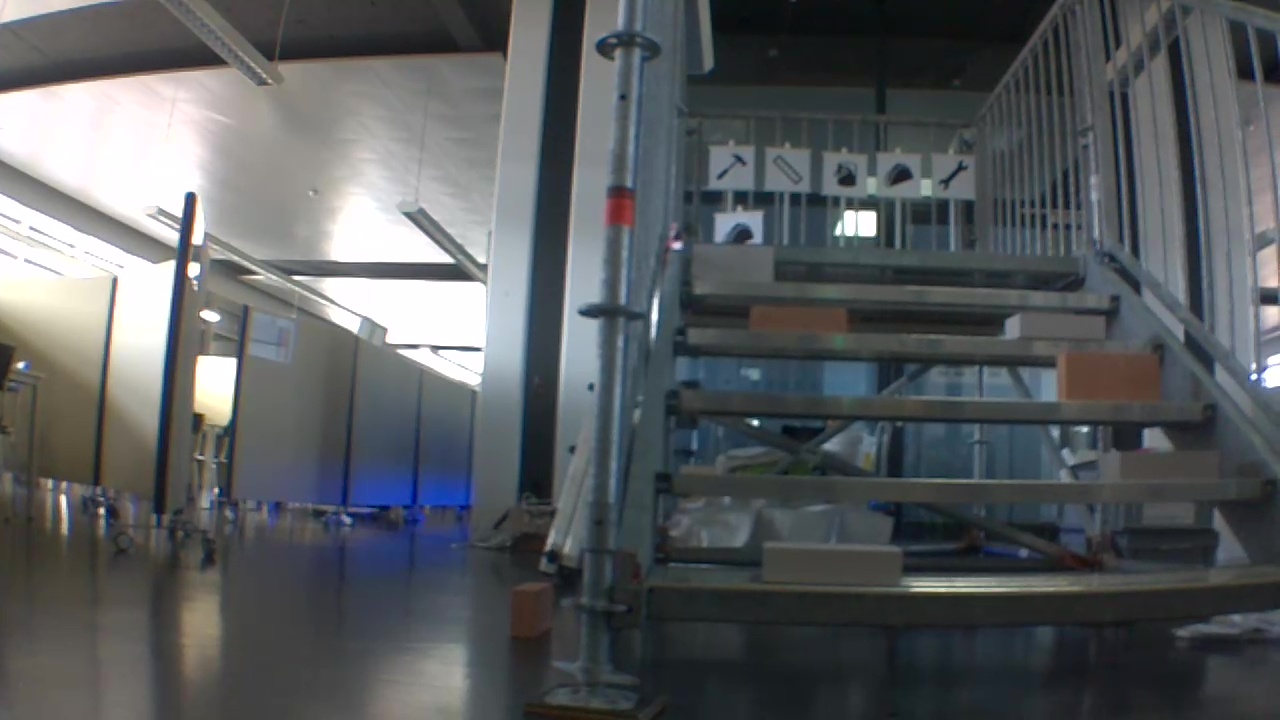brick: (758, 541, 909, 583), (1062, 353, 1160, 403), (1096, 446, 1226, 478), (686, 245, 777, 283), (1000, 312, 1104, 339), (747, 307, 845, 334)
bucket: (831, 160, 861, 189)
edge: (637, 574, 1280, 632), (679, 320, 1167, 352), (656, 475, 1268, 496), (674, 395, 1228, 417), (681, 283, 1123, 301), (682, 251, 1080, 266)
hammer: (713, 149, 749, 183)
ruler: (771, 156, 804, 180)
stairs: (572, 0, 1280, 714)
steps: (626, 249, 1280, 618)
taco: (885, 160, 916, 187), (721, 220, 751, 241)
wrench: (938, 159, 968, 190)
